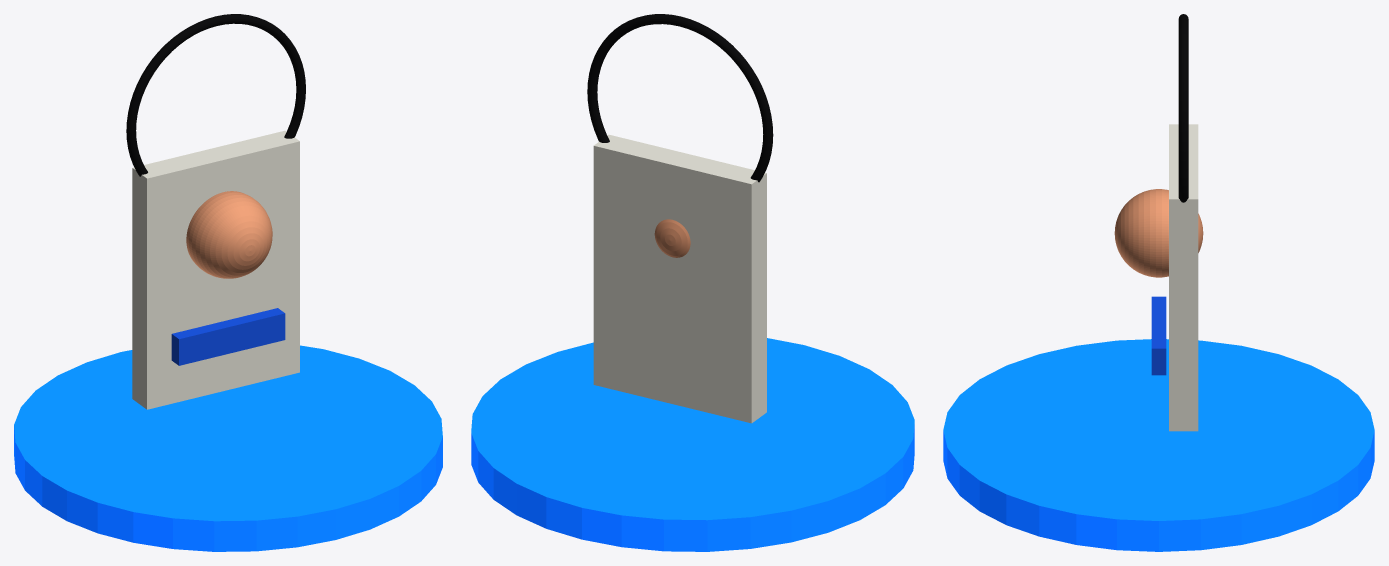
The model's file is news_press_id.dae.
3 views of the same model, side by side, from view 1: azimuth 30°, elevation 25°; view 2: azimuth 150°, elevation 25°; view 3: azimuth 270°, elevation 25° (orthographic). The views are drawn at different scales.
Visible parts, largest first — view 1: 09_06_Popular_News_Press_ID_ROOT_base, 09_06_Popular_News_Press_ID_part_01, 09_06_Popular_News_Press_ID_part_02, 09_06_Popular_News_Press_ID_part_03, 09_06_Popular_News_Press_ID_part_04; view 2: 09_06_Popular_News_Press_ID_ROOT_base, 09_06_Popular_News_Press_ID_part_01, 09_06_Popular_News_Press_ID_part_04, 09_06_Popular_News_Press_ID_part_02; view 3: 09_06_Popular_News_Press_ID_ROOT_base, 09_06_Popular_News_Press_ID_part_01, 09_06_Popular_News_Press_ID_part_02, 09_06_Popular_News_Press_ID_part_04, 09_06_Popular_News_Press_ID_part_03.
Part boxes in pixels (<box>): 09_06_Popular_News_Press_ID_ROOT_base: <box>14,345,442,551</box>; 09_06_Popular_News_Press_ID_part_01: <box>132,130,299,409</box>; 09_06_Popular_News_Press_ID_part_02: <box>186,191,272,278</box>; 09_06_Popular_News_Press_ID_part_03: <box>171,308,285,365</box>; 09_06_Popular_News_Press_ID_part_04: <box>126,14,305,176</box>; 09_06_Popular_News_Press_ID_ROOT_base: <box>471,338,914,551</box>; 09_06_Popular_News_Press_ID_part_01: <box>593,134,766,423</box>; 09_06_Popular_News_Press_ID_part_04: <box>587,14,773,182</box>; 09_06_Popular_News_Press_ID_part_02: <box>654,219,690,257</box>; 09_06_Popular_News_Press_ID_ROOT_base: <box>943,339,1374,551</box>; 09_06_Popular_News_Press_ID_part_01: <box>1169,124,1198,431</box>; 09_06_Popular_News_Press_ID_part_02: <box>1114,189,1203,277</box>; 09_06_Popular_News_Press_ID_part_04: <box>1178,14,1188,202</box>; 09_06_Popular_News_Press_ID_part_03: <box>1151,296,1166,375</box>.
Bounding box in the file's own units: 0.76 × 0.85 × 0.76.
